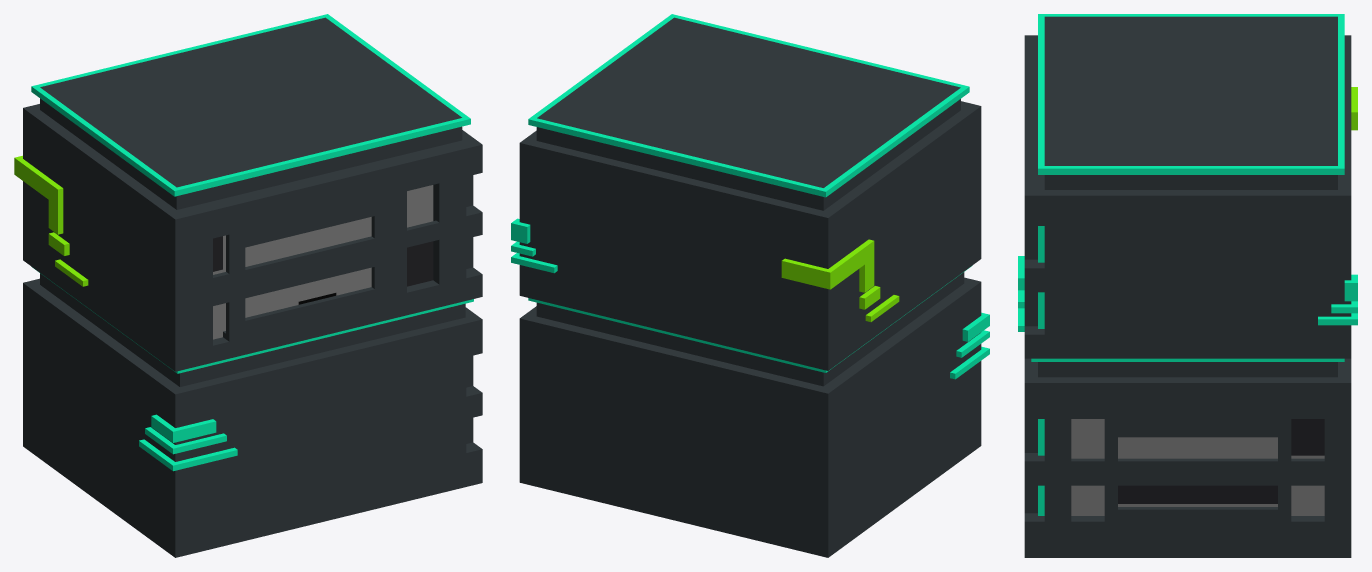
File: Building010(2).obj
3 renders of one model, left to right at view 1: azimuth 30°, elevation 25°; view 2: azimuth 150°, elevation 25°; view 3: azimuth 270°, elevation 25°, orthographic. The views are drawn at different scales.
Size of the model in its own units: 5.9 by 6.4 by 5.1.
Materials: 1 (1 with a texture image).
